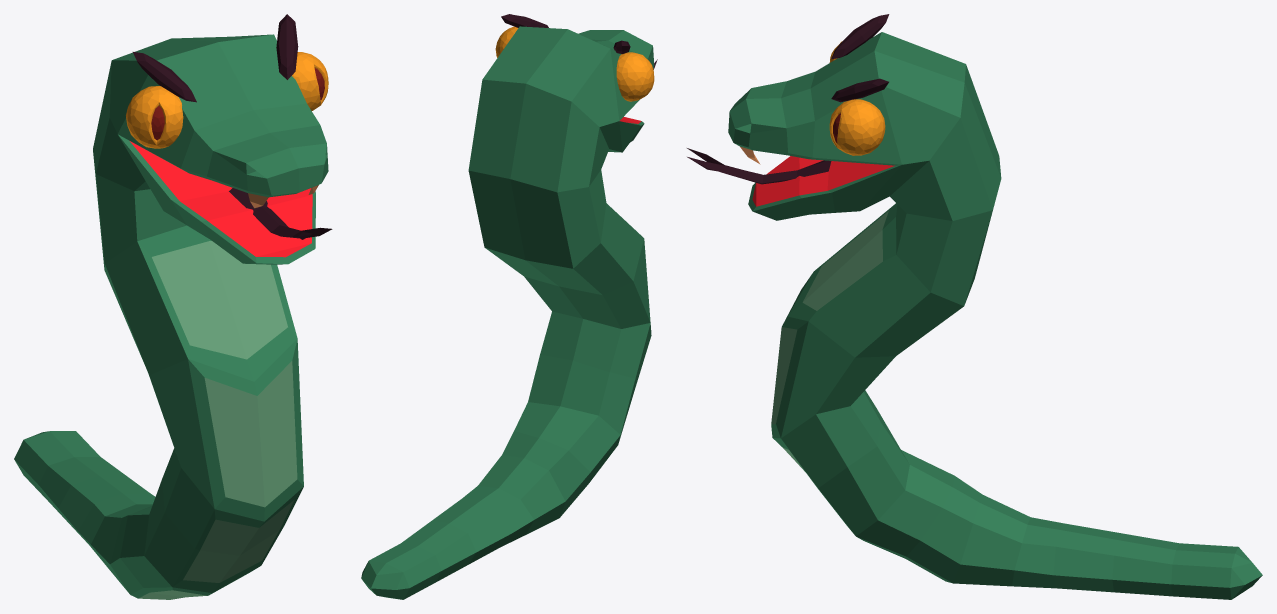
Rendered from Snake_Angry_000018.obj.
3 views of the same model, side by side, from view 1: azimuth 30°, elevation 25°; view 2: azimuth 150°, elevation 25°; view 3: azimuth 270°, elevation 25° (orthographic). The views are drawn at different scales.
Parts seen in each view (by area): view 1: Snake_Cylinder; view 2: Snake_Cylinder; view 3: Snake_Cylinder.
Boxes of the visible parts, bbox=[...] form: Snake_Cylinder: bbox=[14, 14, 332, 599]; Snake_Cylinder: bbox=[361, 14, 657, 599]; Snake_Cylinder: bbox=[687, 14, 1262, 599].
Size of the model in its own units: 1.05 by 3.06 by 3.
